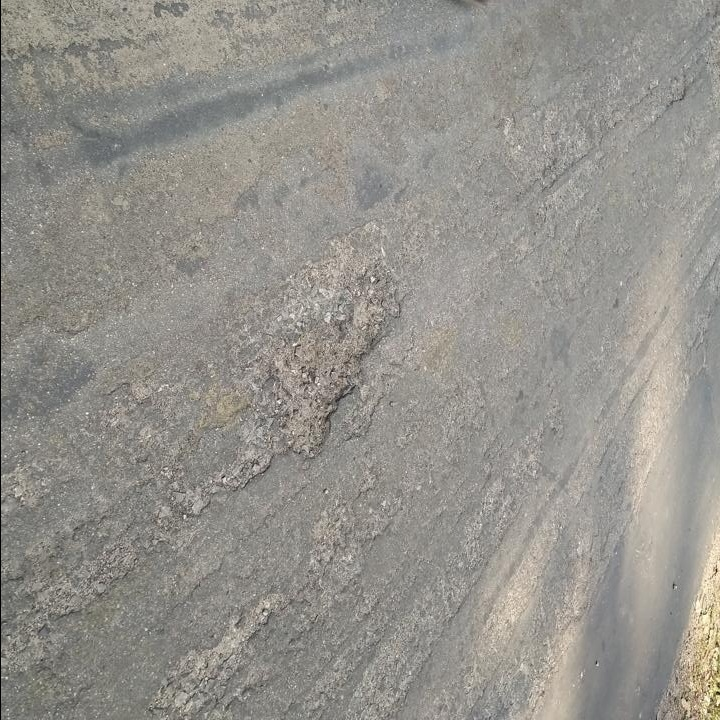pothole: (266, 290, 389, 466)
